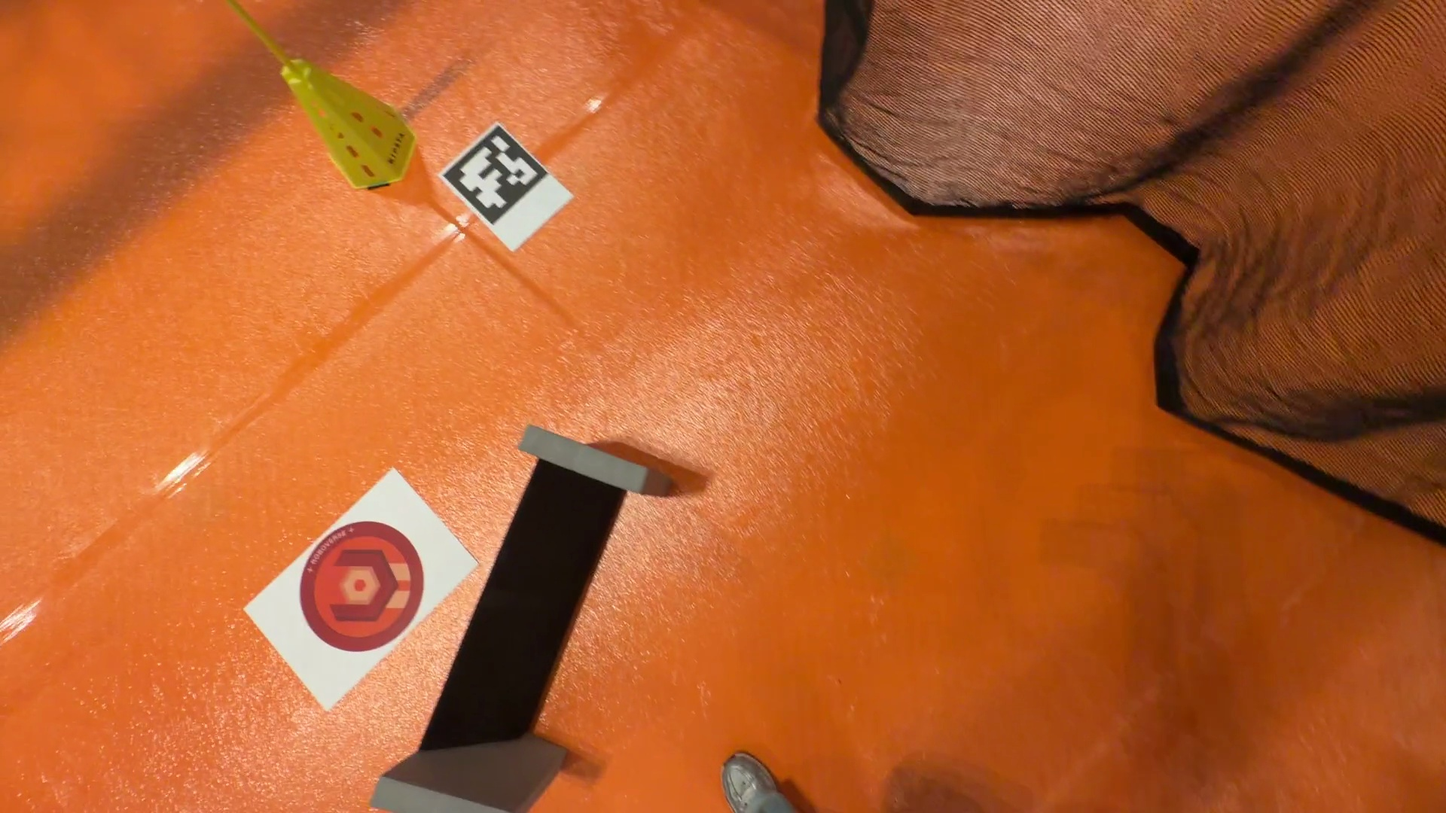landing_pad: (300, 526, 427, 653)
